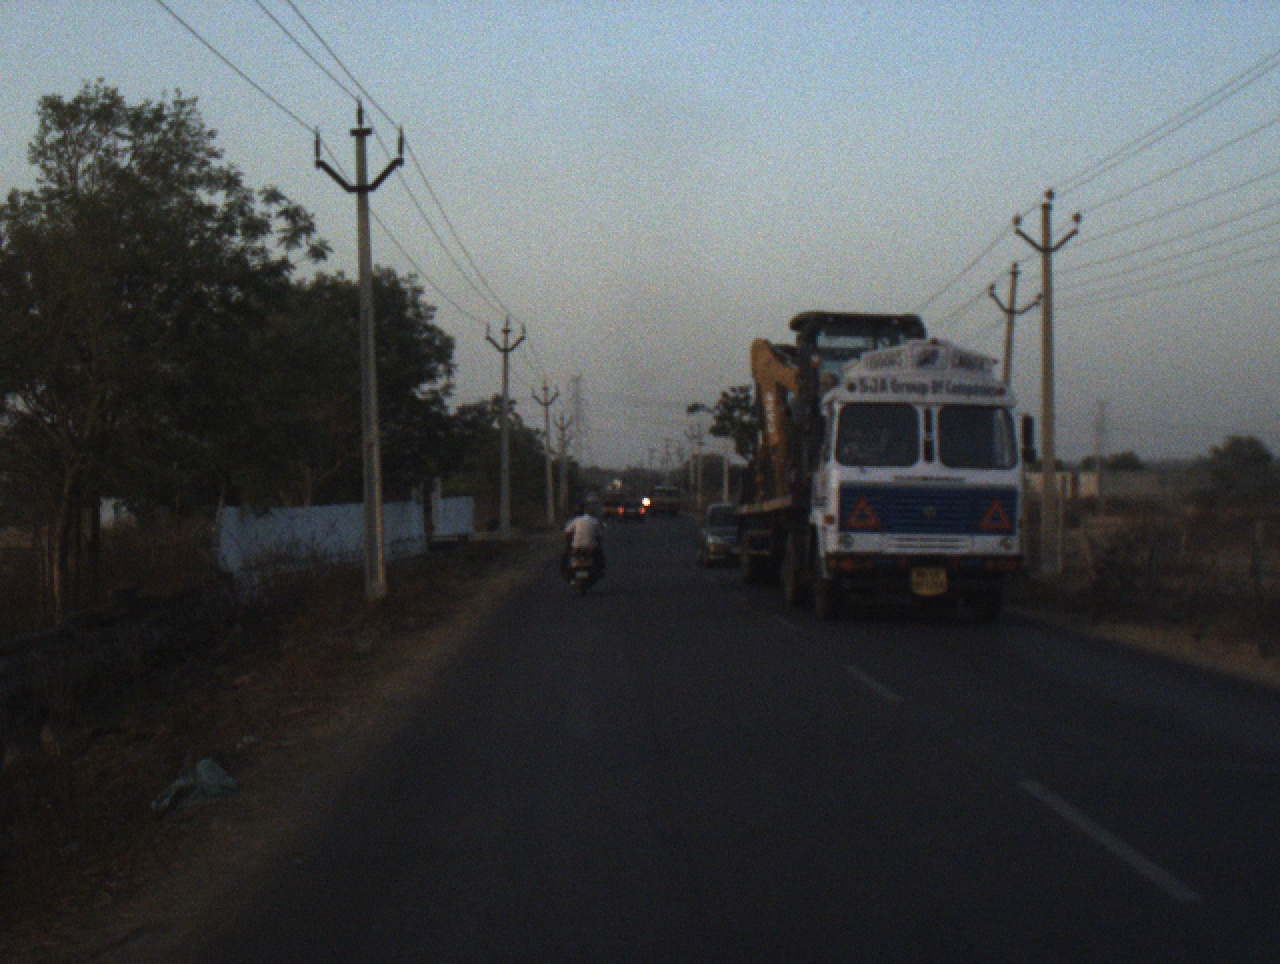autorickshaw: (598, 487, 626, 522)
car: (694, 500, 741, 570), (613, 496, 651, 525), (583, 487, 602, 505)
motorcycle: (559, 520, 606, 599)
rider: (558, 499, 606, 589), (573, 502, 587, 521)
truck: (741, 311, 1040, 628), (647, 474, 685, 519)
